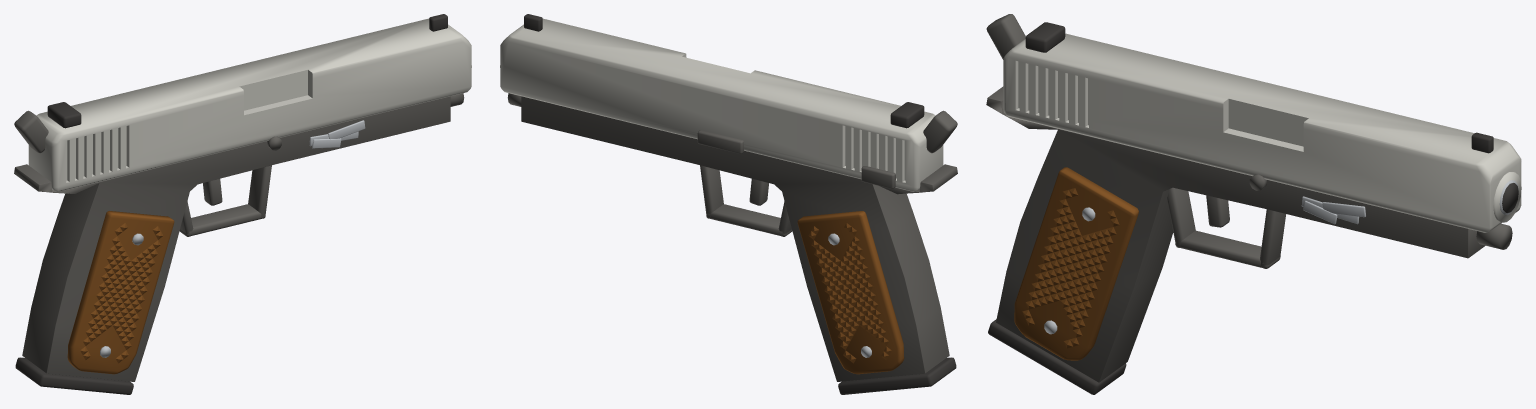
File: gun_service_pistol.glb
3 renders of one model, left to right at view 1: azimuth 30°, elevation 25°; view 2: azimuth 150°, elevation 25°; view 3: azimuth 330°, elevation 25°, orthographic. The views are drawn at different scales.
Visible parts, largest first — view 1: slide, frame, panel_0, checker_0, mag_base, guard_bottom, hammer, guard_front, rear_sight, trigger; view 2: slide, frame, panel_2, checker_2, mag_base, guard_bottom, hammer, guard_front, slide_stop, rear_sight, thumb_safety, trigger; view 3: slide, frame, panel_0, checker_0, mag_base, guard_bottom, guard_back, guard_front, hammer, rear_sight, spring_plug, bushing (+2 smaller).
Boxes of the visible parts, x1=… form: slide: x1=28, y1=18, x2=471, y2=191; frame: x1=14, y1=96, x2=450, y2=381; panel_0: x1=67, y1=211, x2=174, y2=374; checker_0: x1=80, y1=223, x2=163, y2=363; mag_base: x1=15, y1=357, x2=133, y2=394; guard_bottom: x1=179, y1=204, x2=265, y2=236; hammer: x1=14, y1=110, x2=48, y2=153; guard_front: x1=248, y1=165, x2=271, y2=218; rear_sight: x1=47, y1=102, x2=81, y2=128; trigger: x1=203, y1=179, x2=222, y2=205; slide: x1=500, y1=18, x2=943, y2=191; frame: x1=521, y1=96, x2=957, y2=381; panel_2: x1=797, y1=211, x2=904, y2=374; checker_2: x1=808, y1=223, x2=891, y2=363; mag_base: x1=838, y1=357, x2=956, y2=394; guard_bottom: x1=706, y1=204, x2=792, y2=236; hammer: x1=923, y1=110, x2=957, y2=153; guard_front: x1=700, y1=165, x2=723, y2=218; slide_stop: x1=697, y1=130, x2=743, y2=153; rear_sight: x1=890, y1=102, x2=924, y2=128; thumb_safety: x1=861, y1=166, x2=895, y2=188; trigger: x1=749, y1=178, x2=768, y2=205; slide: x1=1003, y1=33, x2=1521, y2=232; frame: x1=986, y1=86, x2=1485, y2=382; panel_0: x1=1014, y1=167, x2=1138, y2=360; checker_0: x1=1022, y1=188, x2=1119, y2=348; mag_base: x1=988, y1=319, x2=1126, y2=394; guard_bottom: x1=1175, y1=230, x2=1280, y2=268; guard_back: x1=1167, y1=187, x2=1195, y2=247; guard_front: x1=1260, y1=209, x2=1285, y2=268; hammer: x1=986, y1=14, x2=1025, y2=59; rear_sight: x1=1025, y1=22, x2=1065, y2=52; spring_plug: x1=1476, y1=223, x2=1512, y2=249; bushing: x1=1493, y1=172, x2=1521, y2=222.
Bounding box in the file's own units: 0.2971 × 0.1874 × 0.0435.
